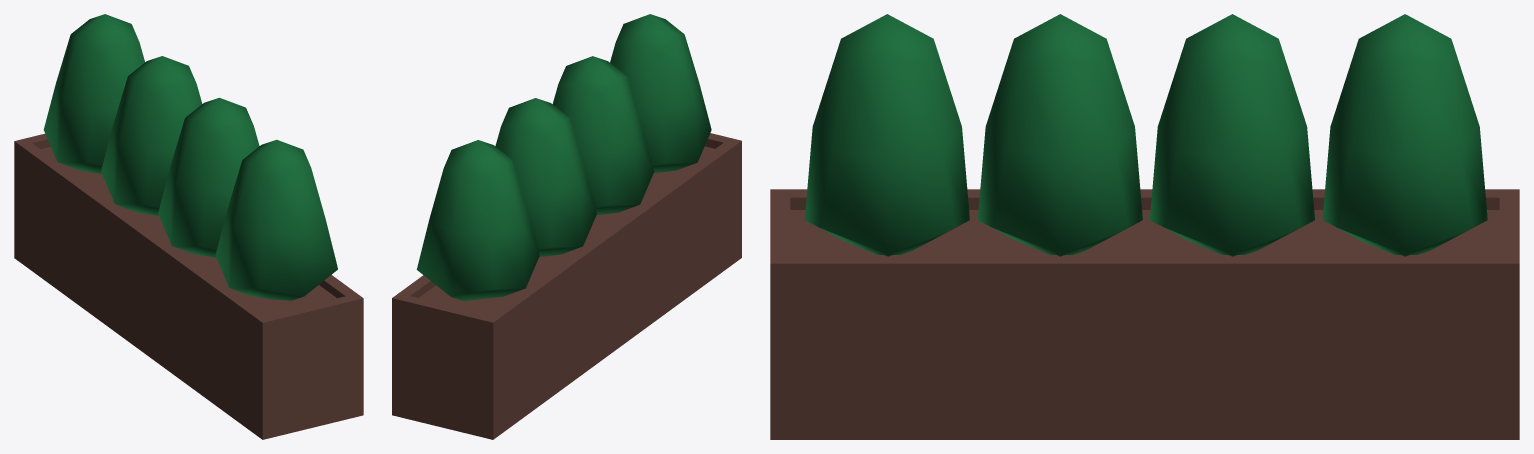
Rendered from cay.fbx.
The picture shows the model from 3 angles, left to right: view 1: azimuth 30°, elevation 25°; view 2: azimuth 150°, elevation 25°; view 3: azimuth 270°, elevation 25°; orthographic projection. The views are drawn at different scales.
Parts seen in each view (by area): view 1: cay; view 2: cay; view 3: cay.
Boxes of the visible parts, x1,y1,x2,y2 form: cay: (14,14,363,439); cay: (392,14,741,439); cay: (770,14,1519,439).
Size of the model in its own units: 104 by 255 by 444.
